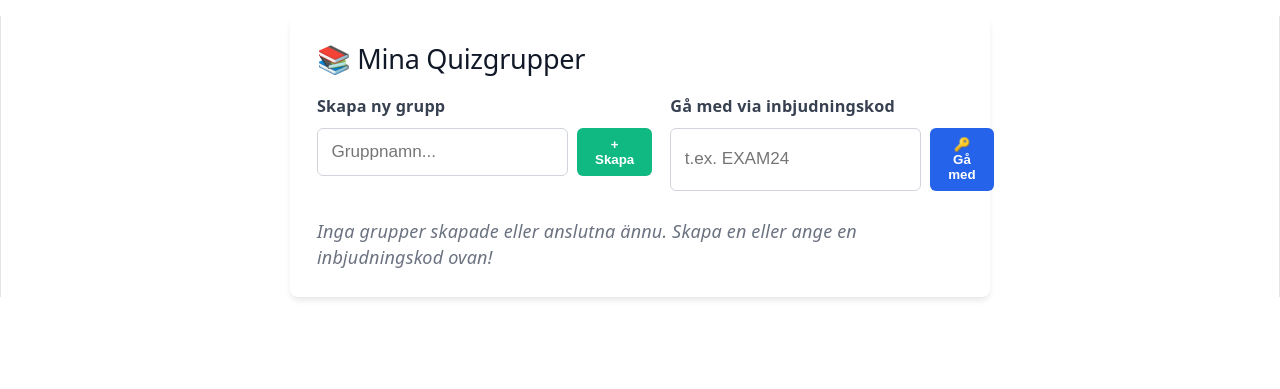
it: GroupDashboard Component › should join a group and show success message
In the field with placeholder "t.ex. EXAM24": (796, 160) [670,128,921,191], type "EXAM24"
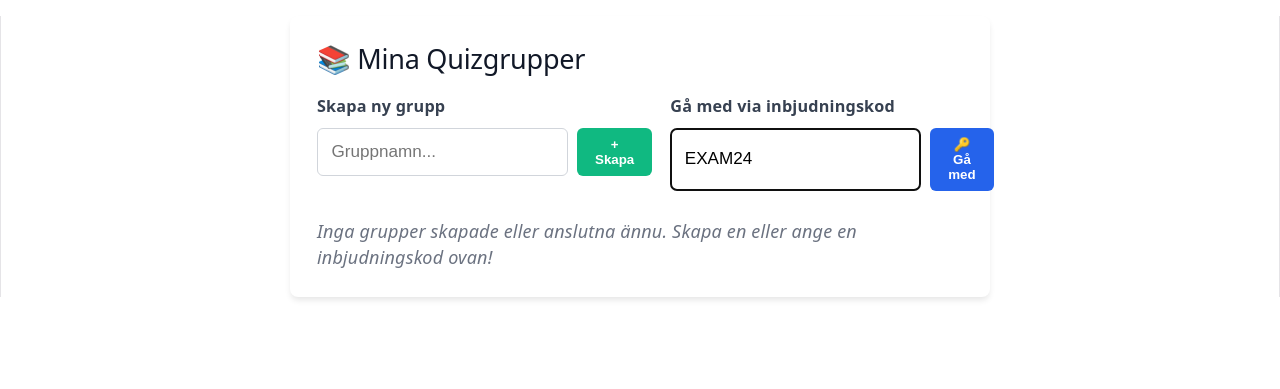
Click the button "🔑 Gå med": (962, 160) [930,128,994,191]
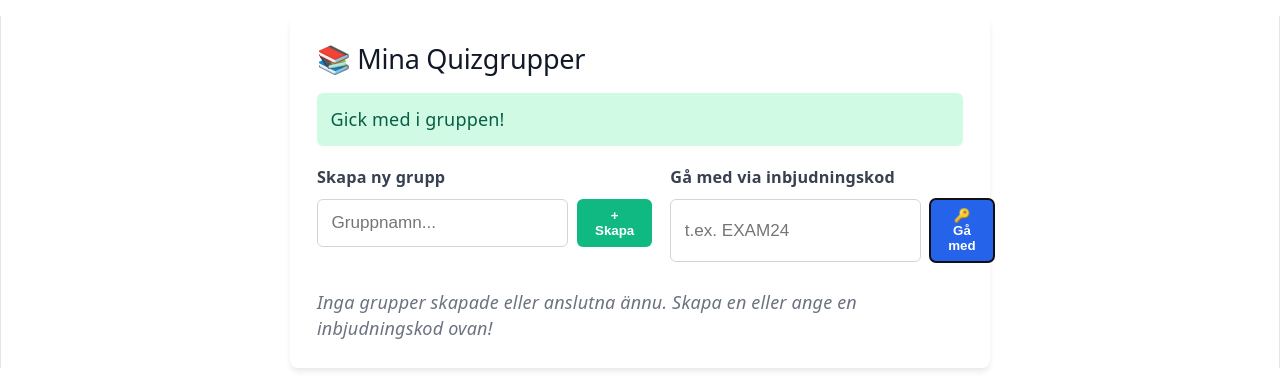
Now the text "Gick med i gruppen!" is shown, box [317,93,963,146]
